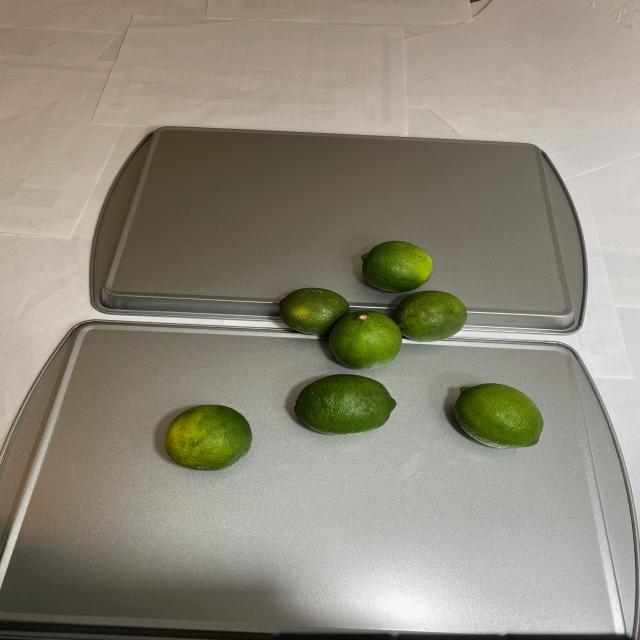lemon: (157, 238, 544, 468)
